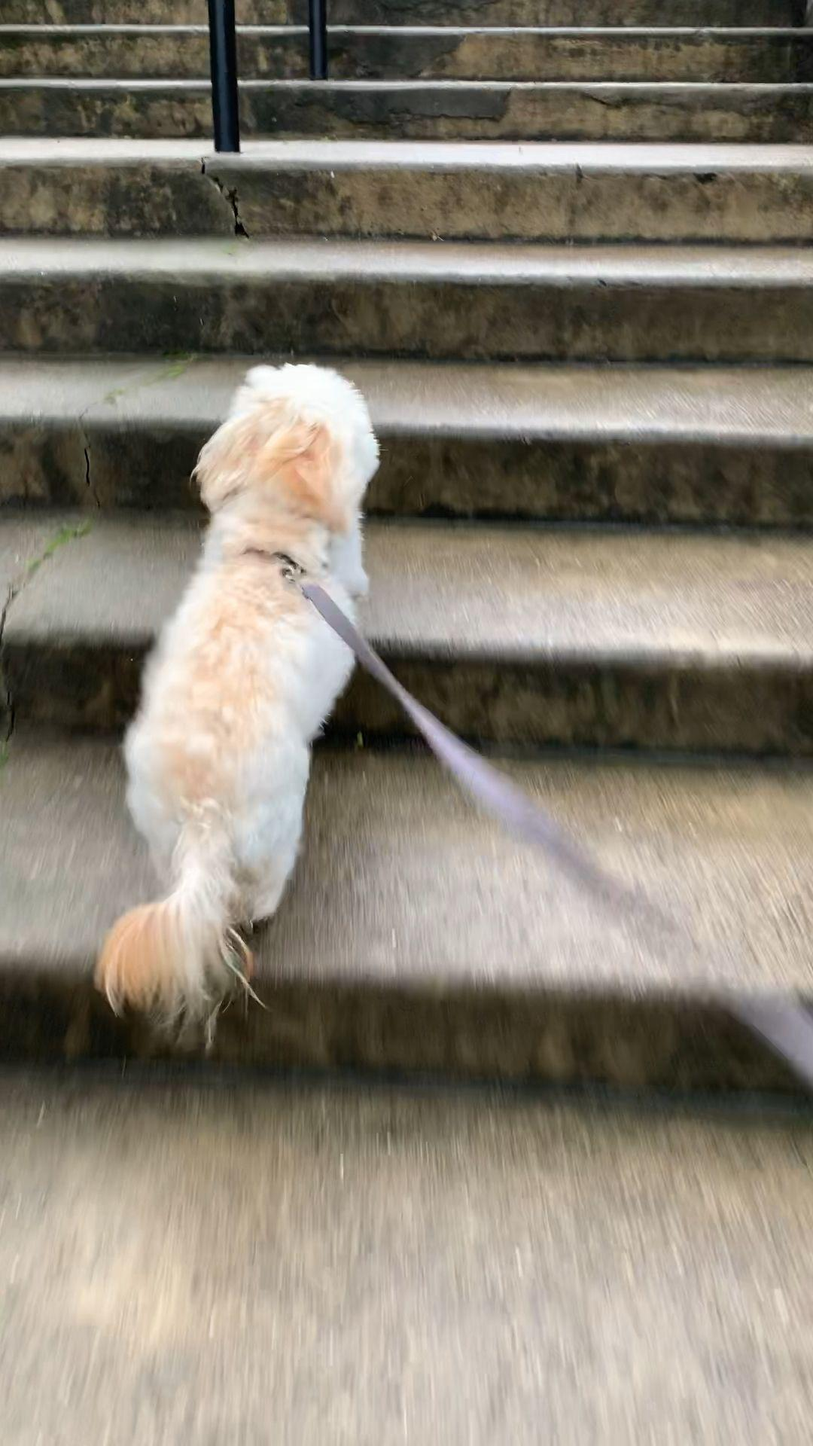adult_dog: (87, 360, 381, 1060)
